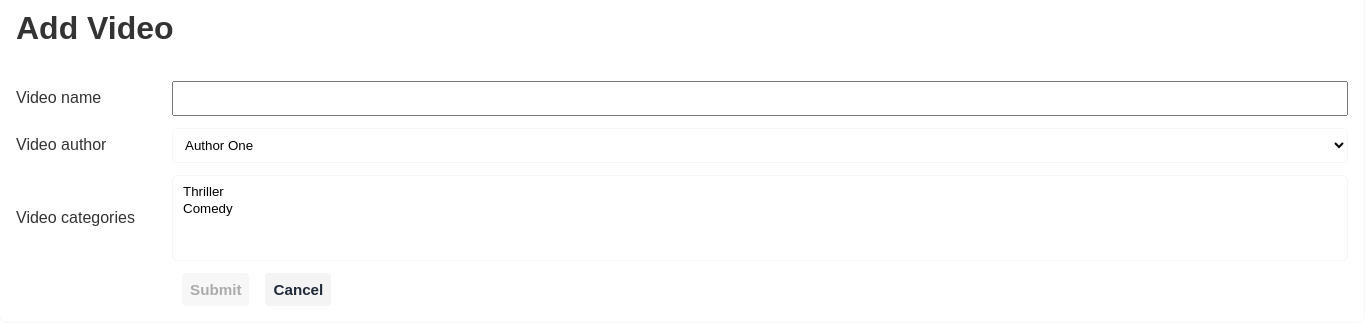
it: VideoForm › disables submit until required fields are filled
Expected: the button "Submit" is disabled, [182,273,250,306]
Type "New Title" into the field labelled "Video name" at {"x": 760, "y": 98}, box [172,81,1348,116]
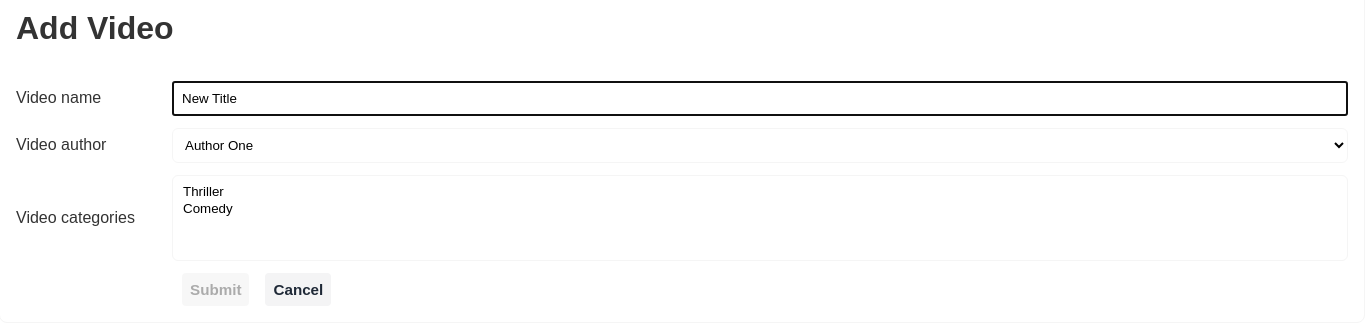
Select "Author One" in the dropdown labelled "Video author" at {"x": 760, "y": 145}, box [172,128,1348,163]
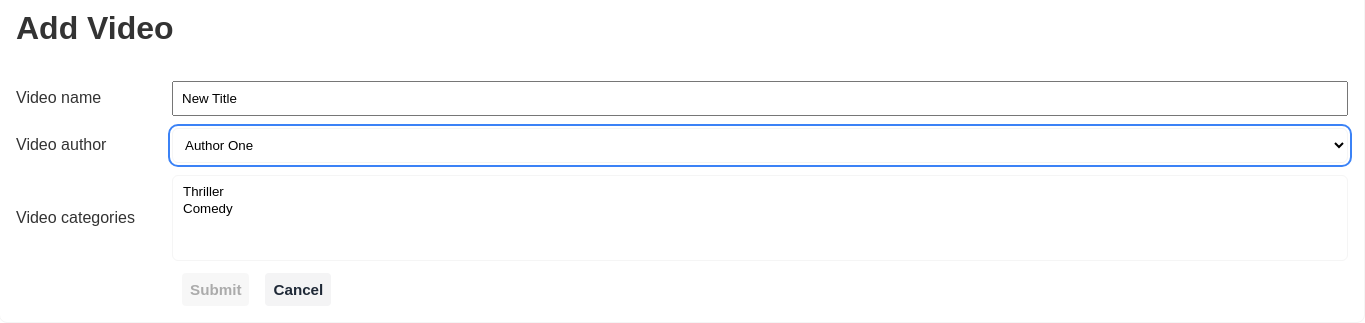
Select "Thriller" in the dropdown labelled "Video categories" at {"x": 760, "y": 218}, box [172,175,1348,261]
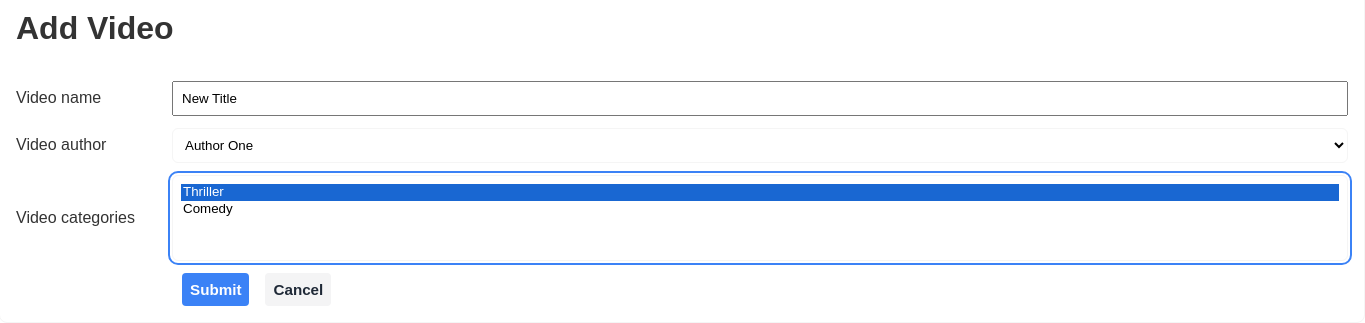
Result: the button "Submit" is enabled at [182,273,250,306]
